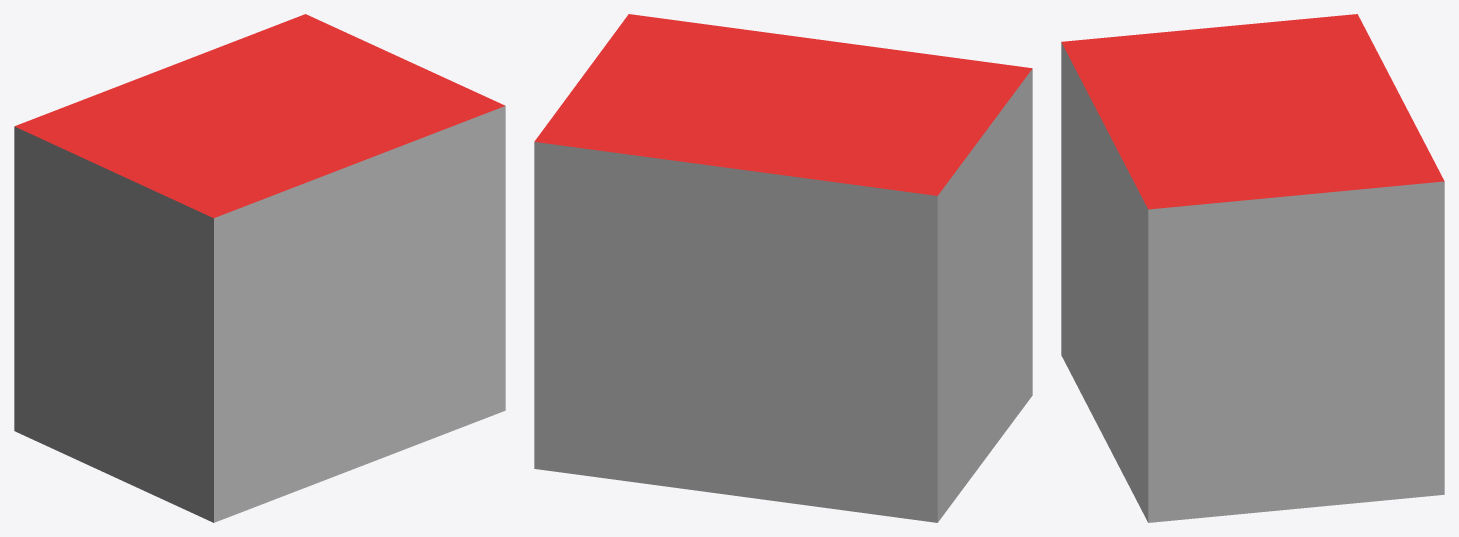
Rendered from DEBE3D04YY50002baA.dae.
3 renders of one model, left to right at view 1: azimuth 30°, elevation 25°; view 2: azimuth 150°, elevation 25°; view 3: azimuth 270°, elevation 25°, orthographic. The views are drawn at different scales.
Size of the model in its own units: 7.63 by 6.33 by 5.71.
